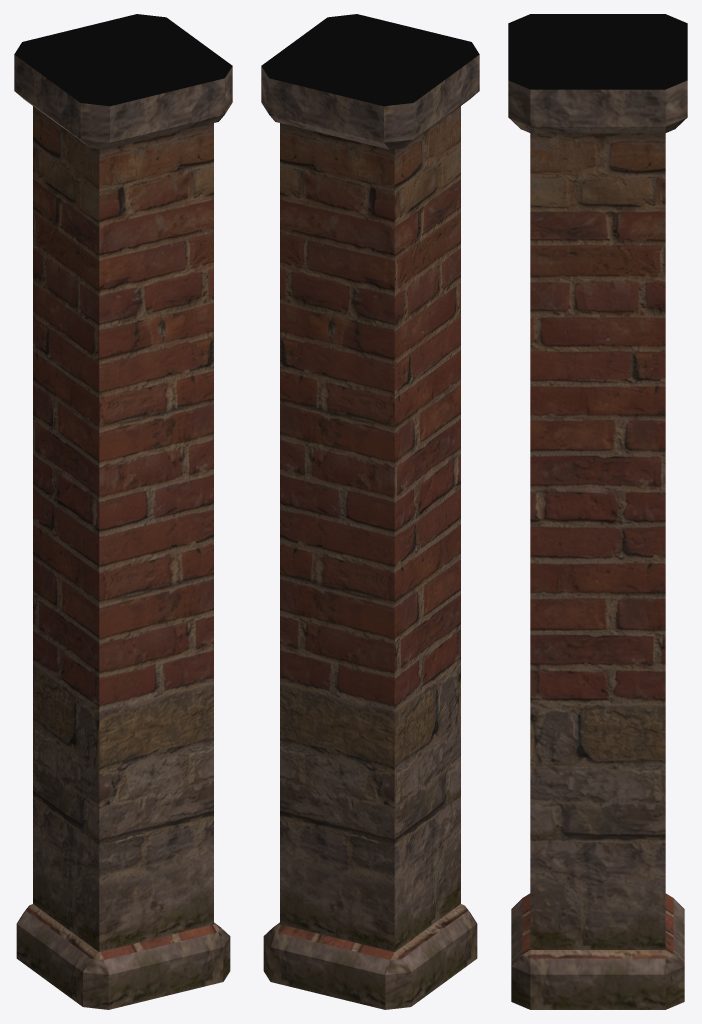
The model's file is BrickPillar_01.fbx.
The picture shows the model from 3 angles, left to right: view 1: azimuth 30°, elevation 25°; view 2: azimuth 150°, elevation 25°; view 3: azimuth 270°, elevation 25°; orthographic projection.
Visible parts, largest first — view 1: Cube.145; view 2: Cube.145; view 3: Cube.145.
Boxes of the visible parts, box(x1,y1,x2,y2) form: Cube.145: box(14, 14, 232, 1009); Cube.145: box(261, 14, 479, 1009); Cube.145: box(508, 14, 687, 1009).
Bounding box in the file's own units: 0.5302 × 0.5303 × 3.01.
Materials: 2 (1 with a texture image).
